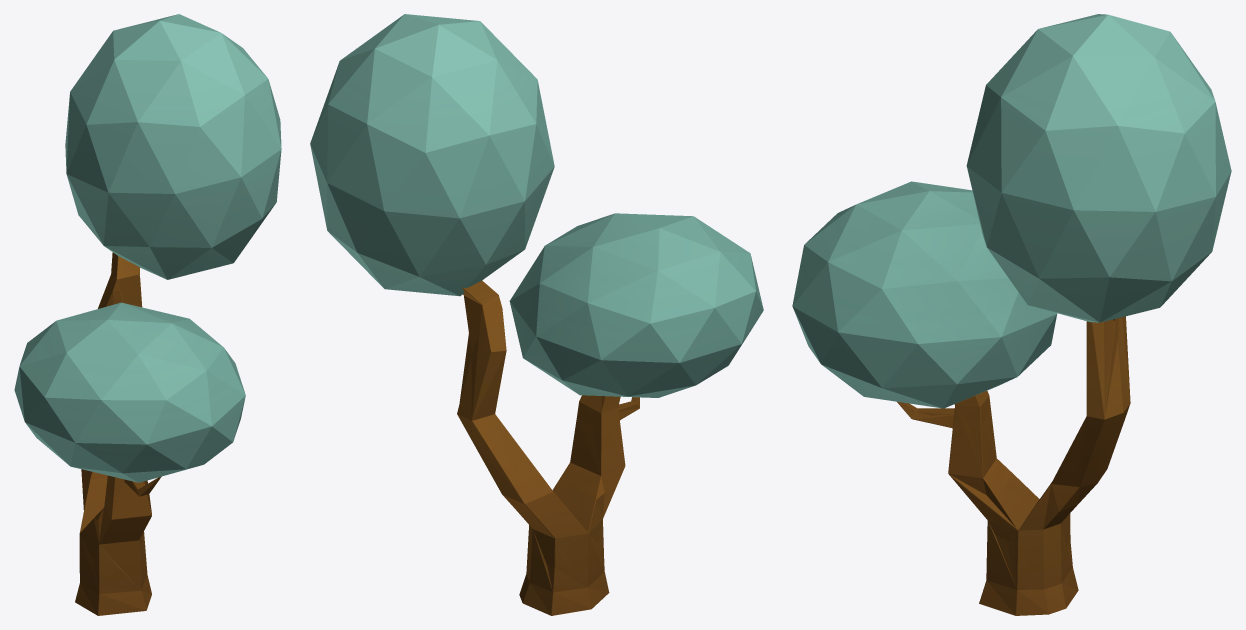
File: tree_twin.glb
3 views of the same model, side by side, from view 1: azimuth 30°, elevation 25°; view 2: azimuth 150°, elevation 25°; view 3: azimuth 270°, elevation 25° (orthographic). The views are drawn at different scales.
Visible parts, largest first — view 1: tree_twin; view 2: tree_twin; view 3: tree_twin.
Boxes of the visible parts, x1=… form: tree_twin: x1=14, y1=14, x2=281, y2=615; tree_twin: x1=310, y1=14, x2=763, y2=615; tree_twin: x1=792, y1=14, x2=1231, y2=615.
Bounding box in the file's own units: 2.03 × 3.3 × 2.09.
1 material, 1 textured.
